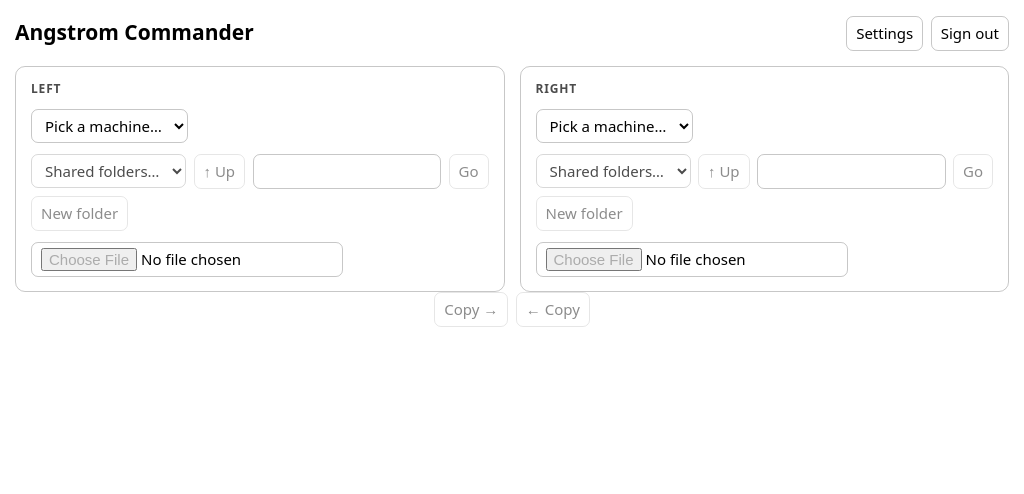
Test: rename prompts and moves the entry within its directory
The width and height of the screenshot is (1024, 494).
Select "Home PC" in the dropdown named "Left: machine" at [110, 126], box left=31, top=108, right=188, bottom=143
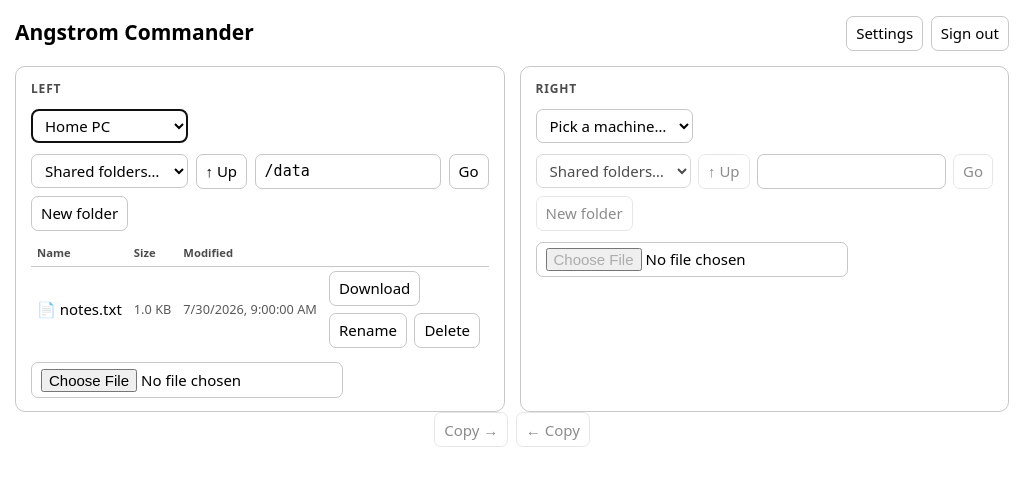
Click the button "Rename".
click(368, 331)  # box left=329, top=313, right=407, bottom=348
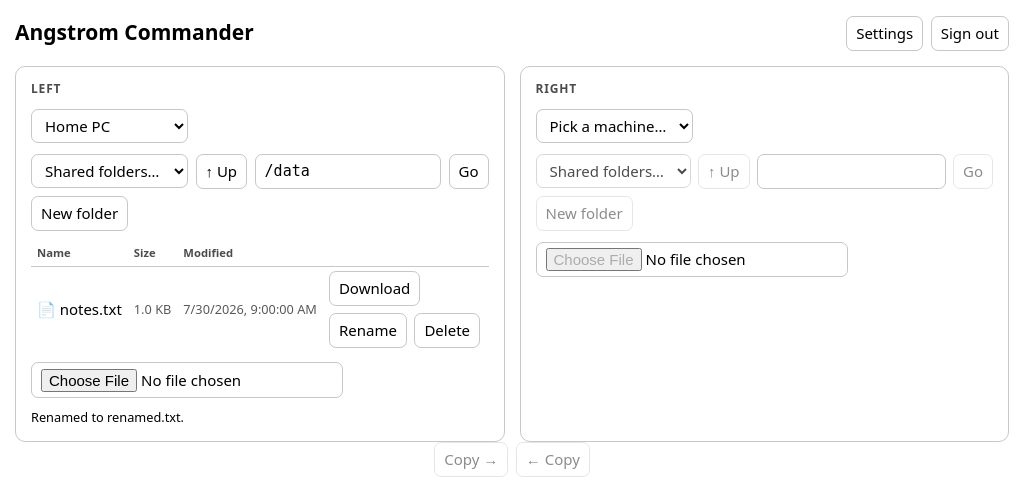
Expected: the text "Renamed to renamed.txt." is shown, left=31, top=408, right=184, bottom=426
